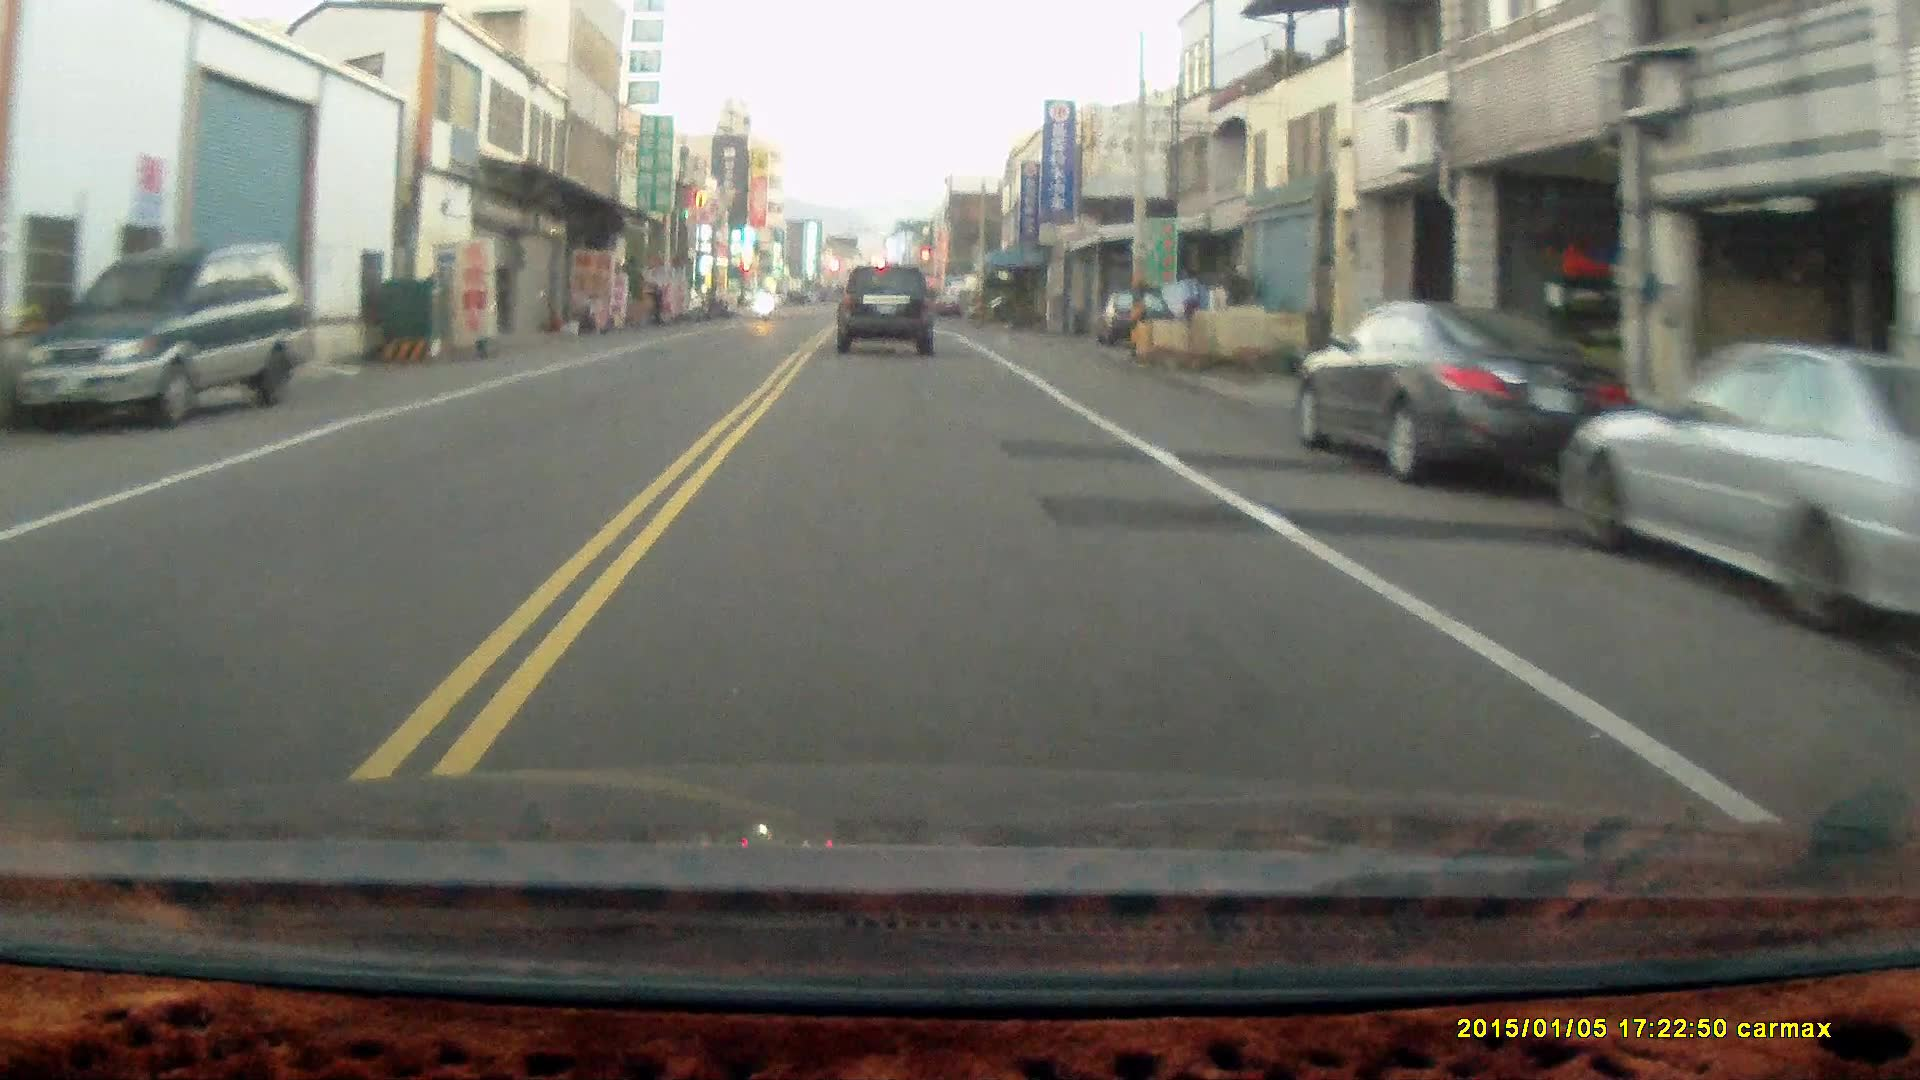pedestrian: (644, 279, 664, 329)
vehicle: (1556, 341, 1920, 646), (1296, 301, 1636, 484), (14, 239, 316, 435), (836, 260, 937, 354), (1097, 290, 1174, 344)
